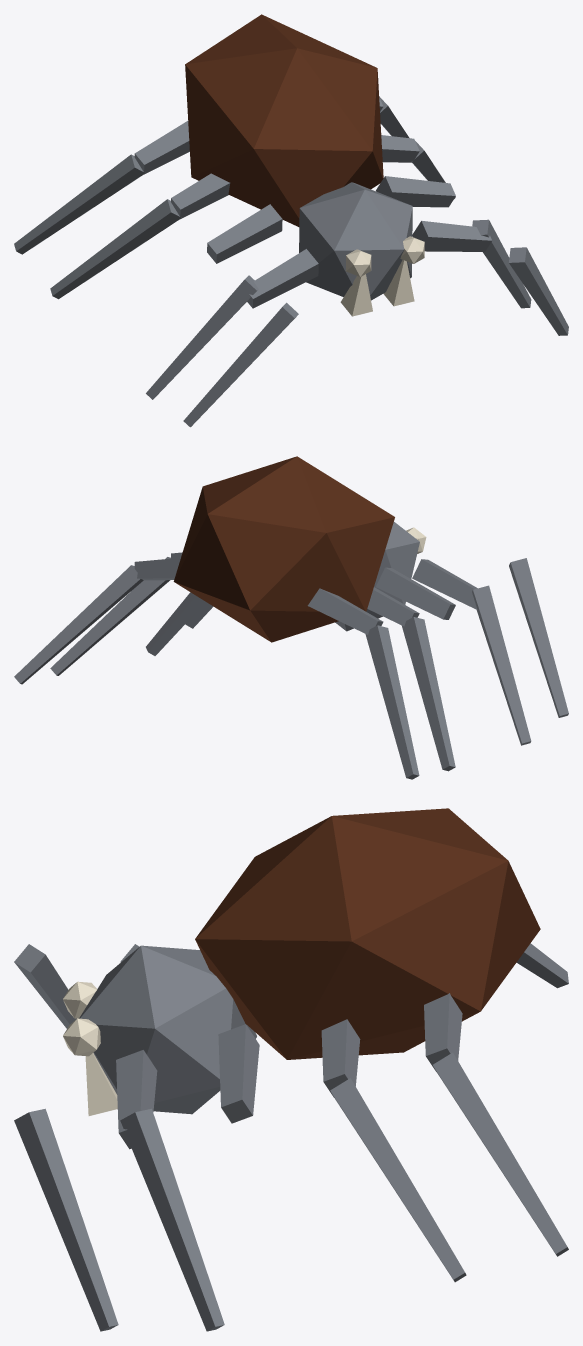
The model's file is npcpose_spider_attack_09.glb.
The picture shows the model from 3 angles, top to bottom: view 1: azimuth 30°, elevation 25°; view 2: azimuth 150°, elevation 25°; view 3: azimuth 270°, elevation 25°; orthographic projection. The views are drawn at different scales.
Visible parts, largest first — view 1: npcpose; view 2: npcpose; view 3: npcpose.
Boxes of the visible parts, bbox=[...] form: npcpose: bbox=[14, 14, 568, 427]; npcpose: bbox=[14, 456, 568, 779]; npcpose: bbox=[14, 808, 568, 1331].
Bounding box in the file's own units: 1.36 × 0.8862 × 1.15.
